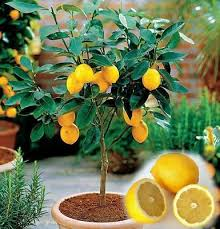orange: (140, 68, 164, 91), (101, 60, 119, 84), (63, 74, 82, 94), (75, 62, 94, 82)
